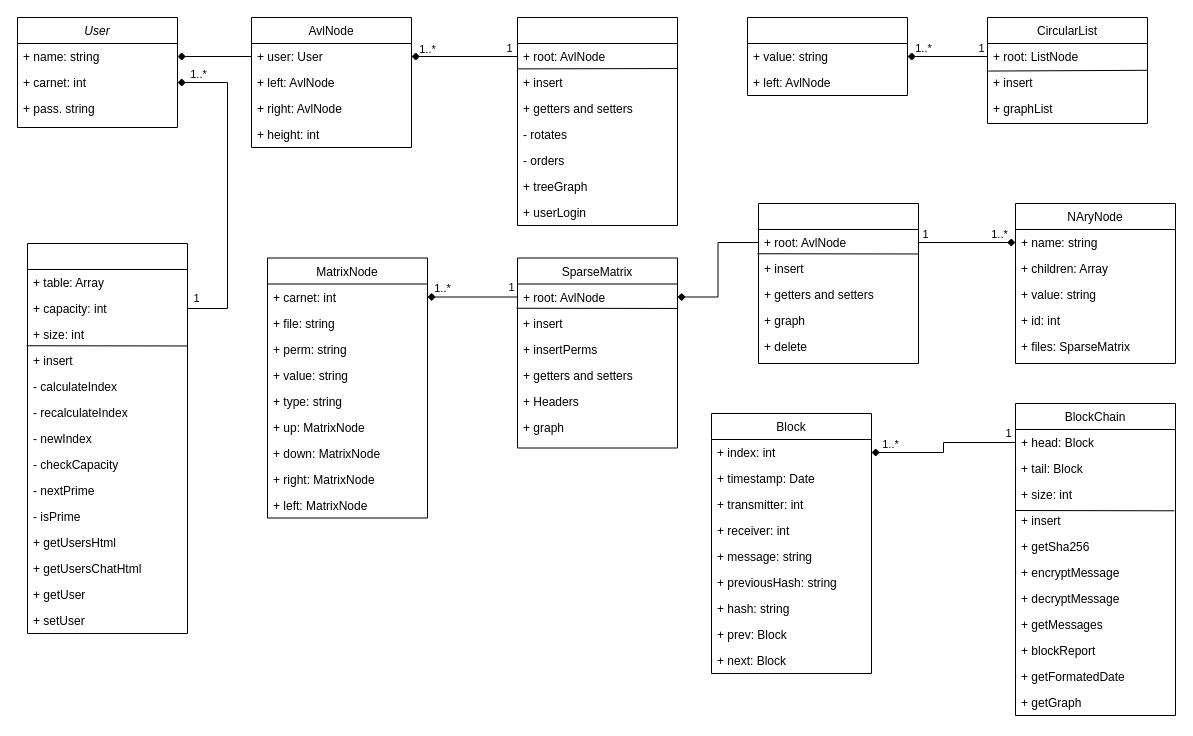
Some shapes in this 1193 by 736 pixel diagram are drawn without their labels. Here are the shapes that lost their labels. From the top down, the box of each, then its label:
(746, 16, 908, 96): ListNode
(516, 16, 678, 226): AvlTree
(758, 202, 918, 364): NAryTree
(26, 242, 188, 634): HashTable
